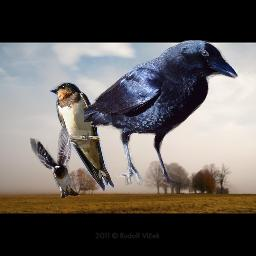Crow: (84, 40, 238, 188)
Swallow: (49, 82, 115, 191), (30, 125, 80, 198)
